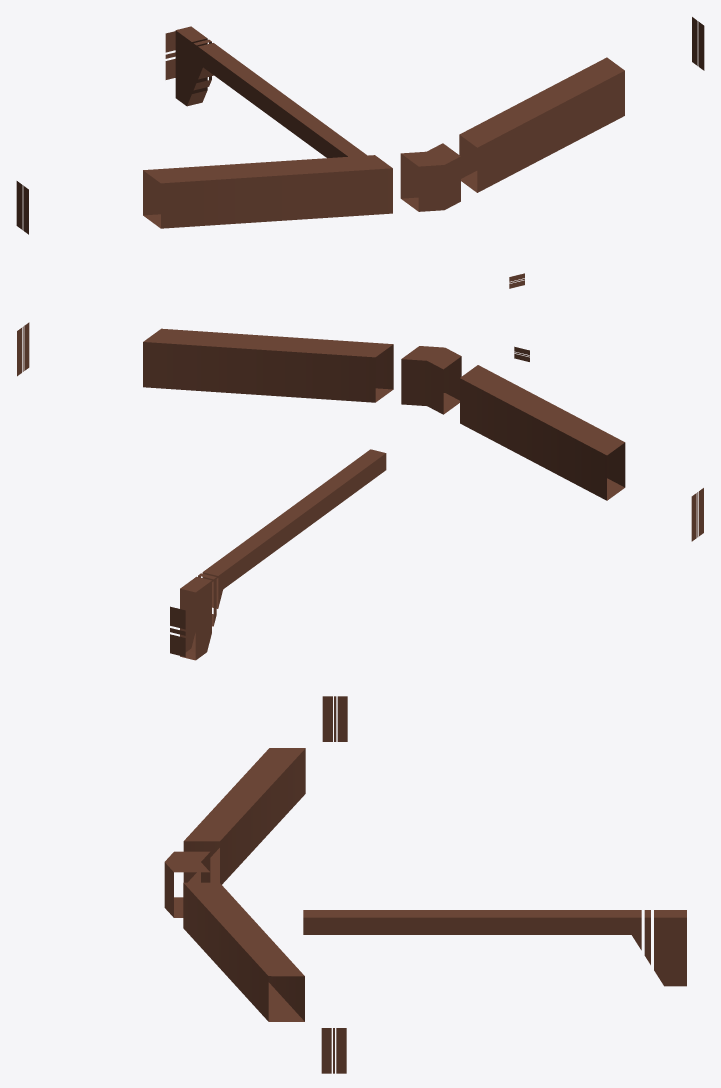
The model's file is Weapon_Shoot_R2.FBX.
The picture shows the model from 3 angles, top to bottom: view 1: azimuth 30°, elevation 25°; view 2: azimuth 150°, elevation 25°; view 3: azimuth 270°, elevation 25°; orthographic projection.
Visible parts, largest first — view 1: RShoot; view 2: RShoot; view 3: RShoot.
Boxes of the visible parts, x1=… form: RShoot: x1=16, y1=17, x2=704, y2=288; RShoot: x1=17, y1=322, x2=703, y2=660; RShoot: x1=164, y1=696, x2=686, y2=1073.
Bounding box in the file's own units: 38.84 × 6.63 × 34.28.
1 material, 1 textured.
